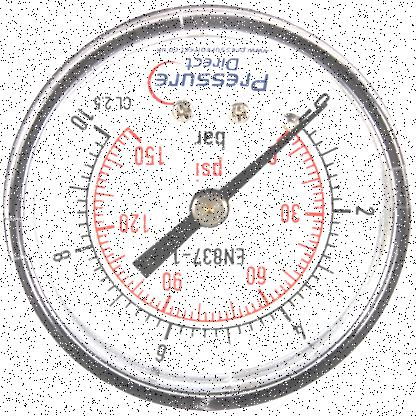needle: (216, 102, 329, 203)
